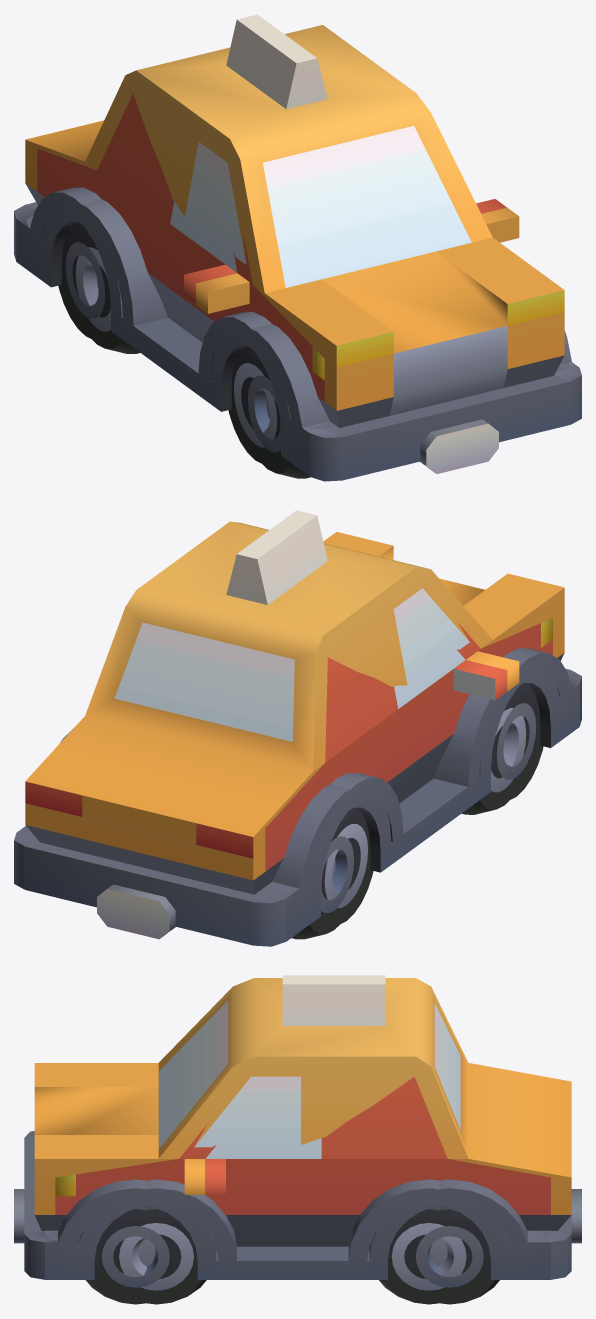
The model's file is cars.glb.
The picture shows the model from 3 angles, top to bottom: view 1: azimuth 30°, elevation 25°; view 2: azimuth 150°, elevation 25°; view 3: azimuth 270°, elevation 25°; orthographic projection. The views are drawn at different scales.
Visible parts, largest first — view 1: body (×2), wheel-back-right (×2), wheel-front-right (×2); view 2: body (×2), wheel-front-right (×2), wheel-back-right (×2); view 3: body (×2), wheel-front-left (×2), wheel-back-left (×2).
Boxes of the visible parts, bbox=[...] form: body (×2): bbox=[14, 14, 581, 481]; wheel-back-right (×2): bbox=[58, 222, 139, 353]; wheel-front-right (×2): bbox=[228, 346, 310, 478]; body (×2): bbox=[14, 510, 581, 946]; wheel-front-right (×2): bbox=[462, 683, 543, 814]; wheel-back-right (×2): bbox=[291, 807, 373, 939]; body (×2): bbox=[14, 975, 581, 1279]; wheel-front-left (×2): bbox=[86, 1206, 216, 1304]; wheel-back-left (×2): bbox=[369, 1206, 499, 1304].
Bounding box in the file's own units: 1.5 × 1.5 × 2.75.
1 material, 1 textured.
